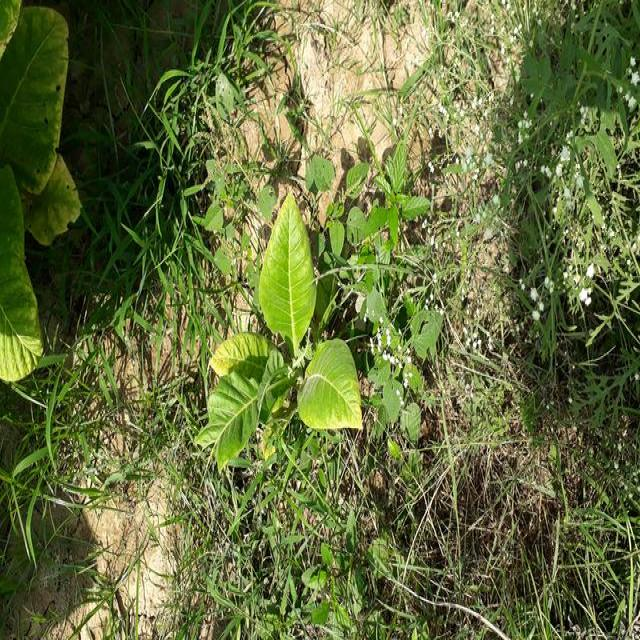crop: (198, 199, 368, 475), (0, 2, 81, 381)
